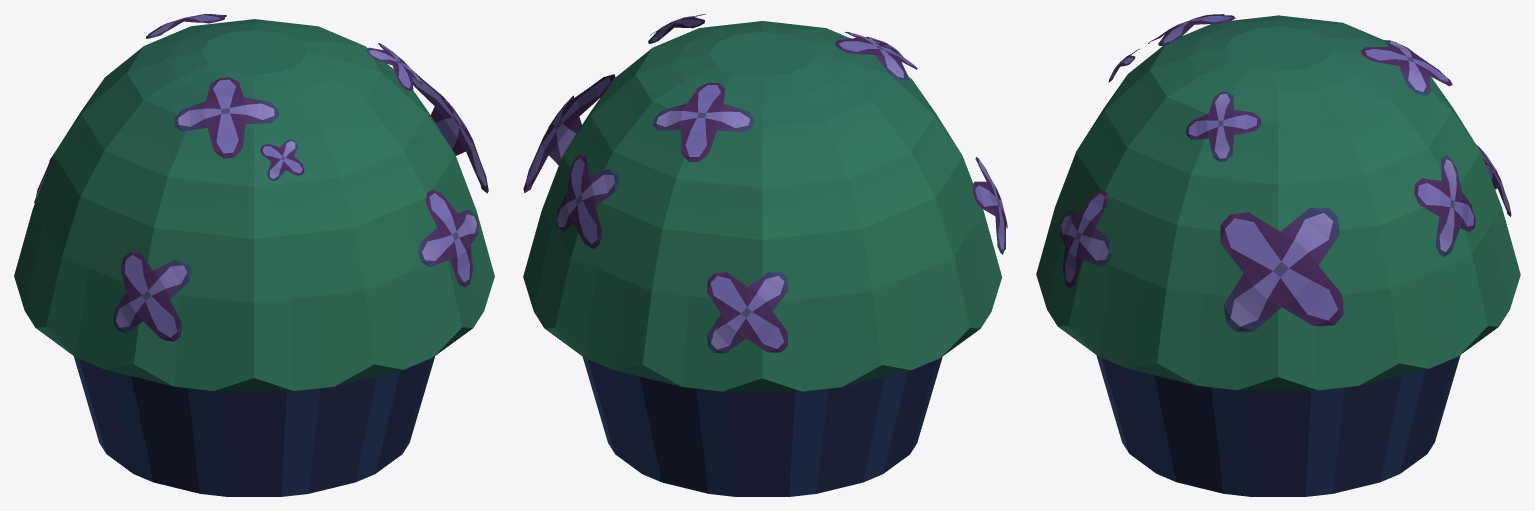
The model's file is Garden_ShrubPlanter02.fbx.
3 renders of one model, left to right at view 1: azimuth 30°, elevation 25°; view 2: azimuth 150°, elevation 25°; view 3: azimuth 270°, elevation 25°, orthographic.
Parts seen in each view (by area): view 1: Cylinder.208; view 2: Cylinder.208; view 3: Cylinder.208.
Boxes of the visible parts, x1,y1,x2,y2 form: Cylinder.208: (14,14,494,496); Cylinder.208: (523,14,1007,496); Cylinder.208: (1036,14,1520,496).
Size of the model in its own units: 59.8 by 51.84 by 58.99.
